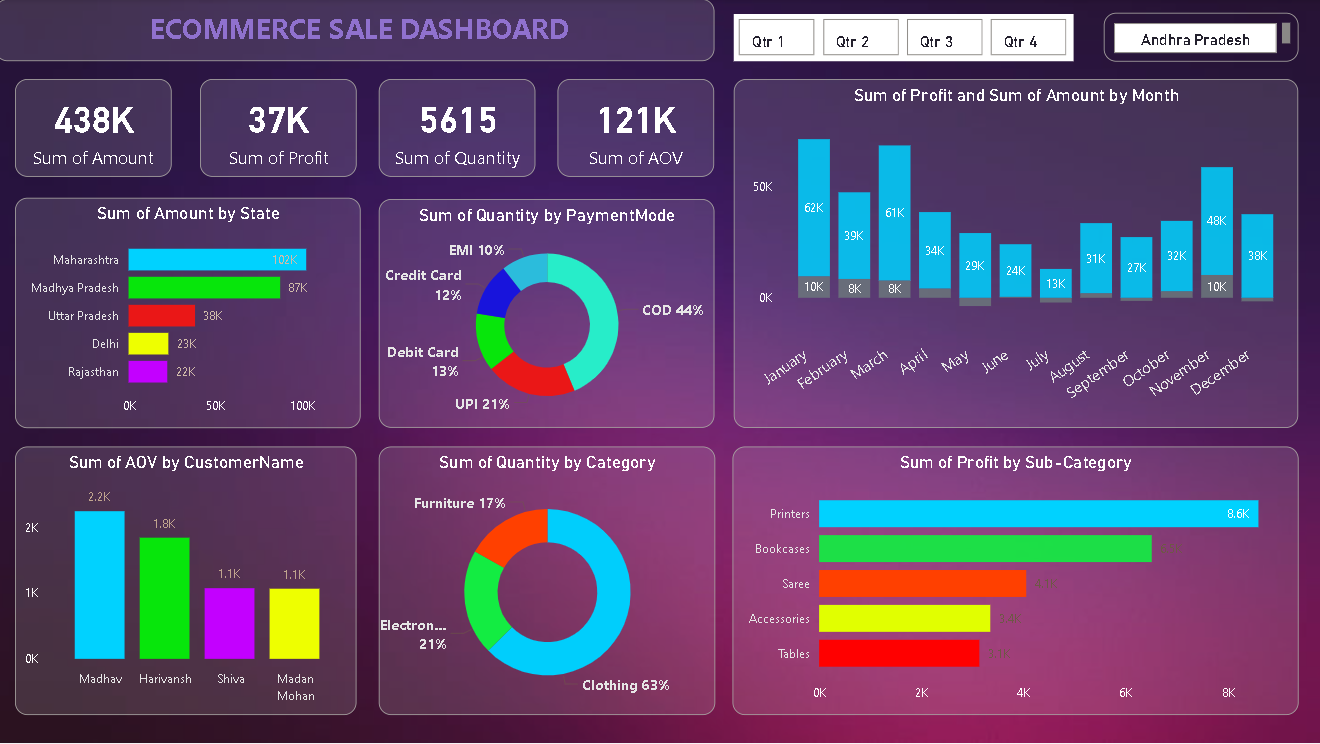

The page's visual inventory and layout, read from the dashboard file:
{"tool":"powerbi","page":{"name":"Page 1","canvas":[1280,720],"ordinal":0},"visuals":[{"type":"textbox","box":[0,0,694.7,60.3],"z":0},{"type":"columnChart","fields":{"Category":["Orders.Order Date.Variation.Date Hierarchy.Month"],"Y":["Details.Profit","Details.Amount"]},"box":[712.8,77.2,545.1,336.5],"z":1000},{"type":"barChart","fields":{"Category":["Details.Sub-Category"],"Y":["Details.Profit"]},"box":[712.2,432.2,546.1,259.3],"z":2000},{"type":"donutChart","fields":{"Y":["Details.Quantity"],"Category":["Details.Category"]},"box":[370.3,431.8,324.4,259.3],"z":3000},{"type":"donutChart","fields":{"Y":["Details.Quantity"],"Category":["Details.PaymentMode","Details.Category"]},"box":[370.5,193.5,323.8,220.9],"z":4000},{"type":"card","fields":{"Values":["Details.Amount"]},"box":[19.2,76.8,150.9,94.7],"z":5000},{"type":"card","fields":{"Values":["Details.AOV"]},"box":[543.4,76.8,150.9,94.7],"z":6000},{"type":"card","fields":{"Values":["Details.Quantity"]},"box":[370.5,76.8,150.9,94.7],"z":7000},{"type":"card","fields":{"Values":["Details.Profit"]},"box":[197.6,76.8,150.9,94.7],"z":8000},{"type":"barChart","fields":{"Category":["Orders.State"],"Y":["Details.Amount"]},"box":[19.2,192.1,333.4,222.3],"z":9000},{"type":"columnChart","fields":{"Category":["Orders.CustomerName"],"Y":["Details.AOV"]},"box":[19.2,432.2,329.3,259.3],"z":10000},{"type":"advancedSlicerVisual","fields":{"Values":["Orders.State"]},"box":[1070.1,13.3,188.2,47.1],"z":11000},{"type":"advancedSlicerVisual","fields":{"Values":["Orders.Order Date.Variation.Date Hierarchy.Quarter"]},"box":[712.8,14.5,328,45.8],"z":12000}]}

Visuals, with their boxes in screenshot pixels (x1, y1, x2, y2), scaled from the page's 1280x720 canvas onto the 1320x744 screenshot:
textbox: x1=0 y1=0 x2=716 y2=62
columnChart - Orders.Order Date.Variation.Date Hierarchy.Month x Details.Profit: x1=735 y1=80 x2=1297 y2=427
barChart - Details.Sub-Category x Details.Profit: x1=734 y1=447 x2=1298 y2=715
donutChart - Details.Quantity x Details.Category: x1=382 y1=446 x2=716 y2=714
donutChart - Details.Quantity x Details.PaymentMode: x1=382 y1=200 x2=716 y2=428
card - Details.Amount: x1=20 y1=79 x2=175 y2=177
card - Details.AOV: x1=560 y1=79 x2=716 y2=177
card - Details.Quantity: x1=382 y1=79 x2=538 y2=177
card - Details.Profit: x1=204 y1=79 x2=359 y2=177
barChart - Orders.State x Details.Amount: x1=20 y1=199 x2=364 y2=428
columnChart - Orders.CustomerName x Details.AOV: x1=20 y1=447 x2=359 y2=715
advancedSlicerVisual - Orders.State: x1=1104 y1=14 x2=1298 y2=62
advancedSlicerVisual - Orders.Order Date.Variation.Date Hierarchy.Quarter: x1=735 y1=15 x2=1073 y2=62
